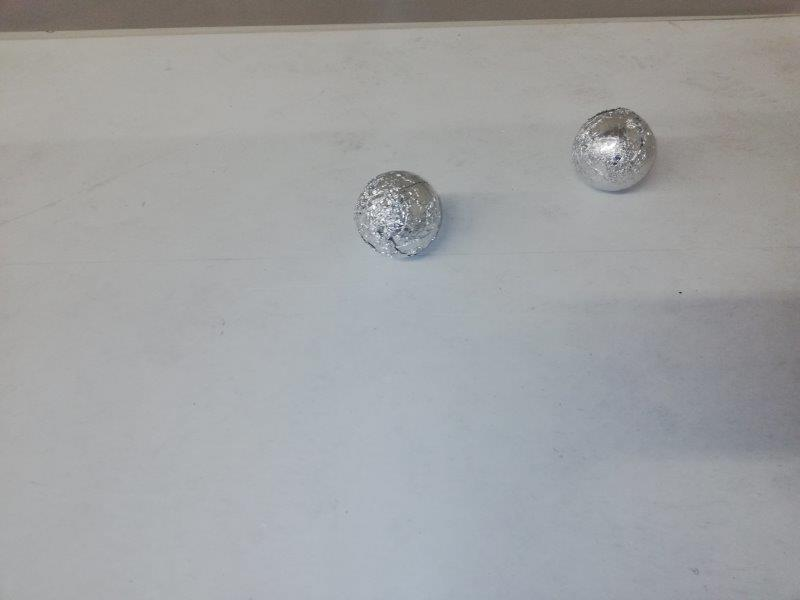bianca: (353, 169, 445, 255), (571, 106, 658, 192)
